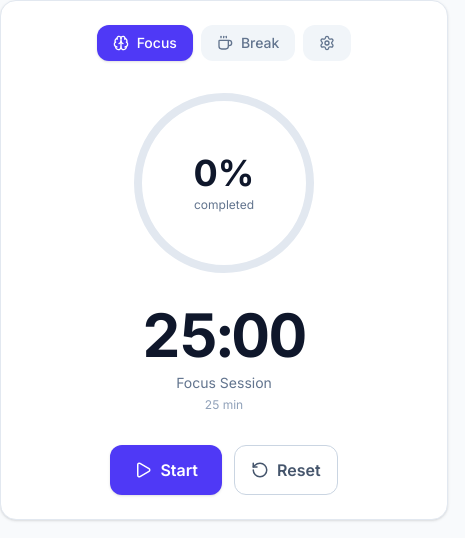
it: Timer › switches to break mode with 05:00 duration
The image size is (465, 538).
Click the button "Break": (248, 43) 201,25 -> 295,61
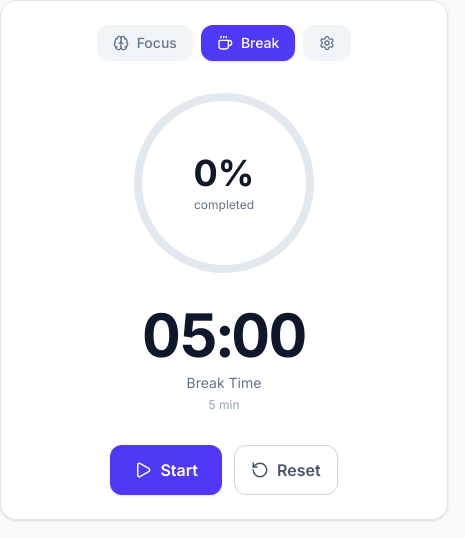
Result: the text "05:00" is shown at 142,299 -> 306,371
Result: the text "Break Time" is shown at 187,374 -> 261,391
